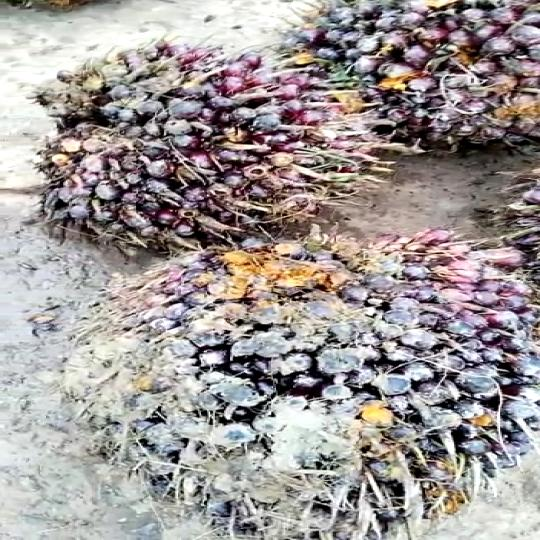kurang masak: (56, 228, 540, 522), (32, 40, 426, 234)
